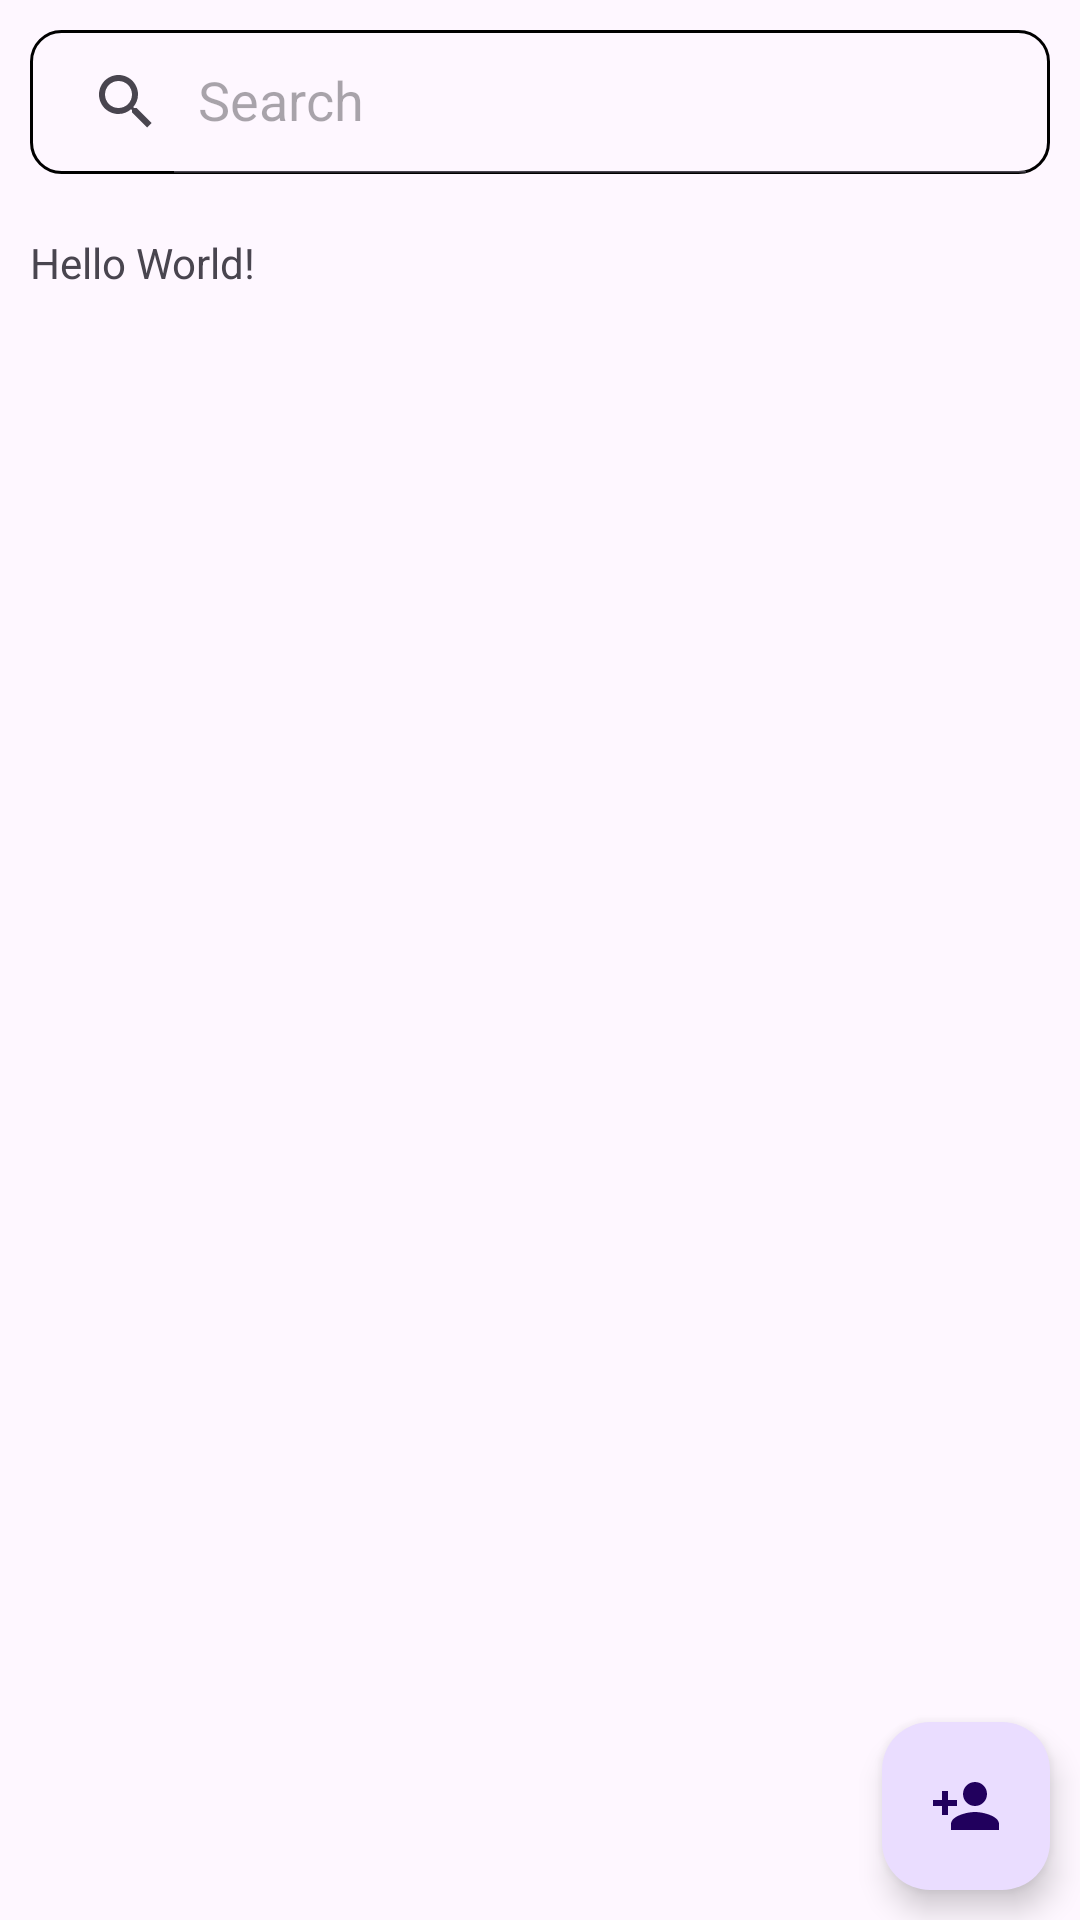

Locate icon controls on the screen. Image size 1080px×1920px, boxes as (left=x1, top=y1, right=x2, bottom=y2).
Add User: (left=882, top=1722, right=1050, bottom=1890)
